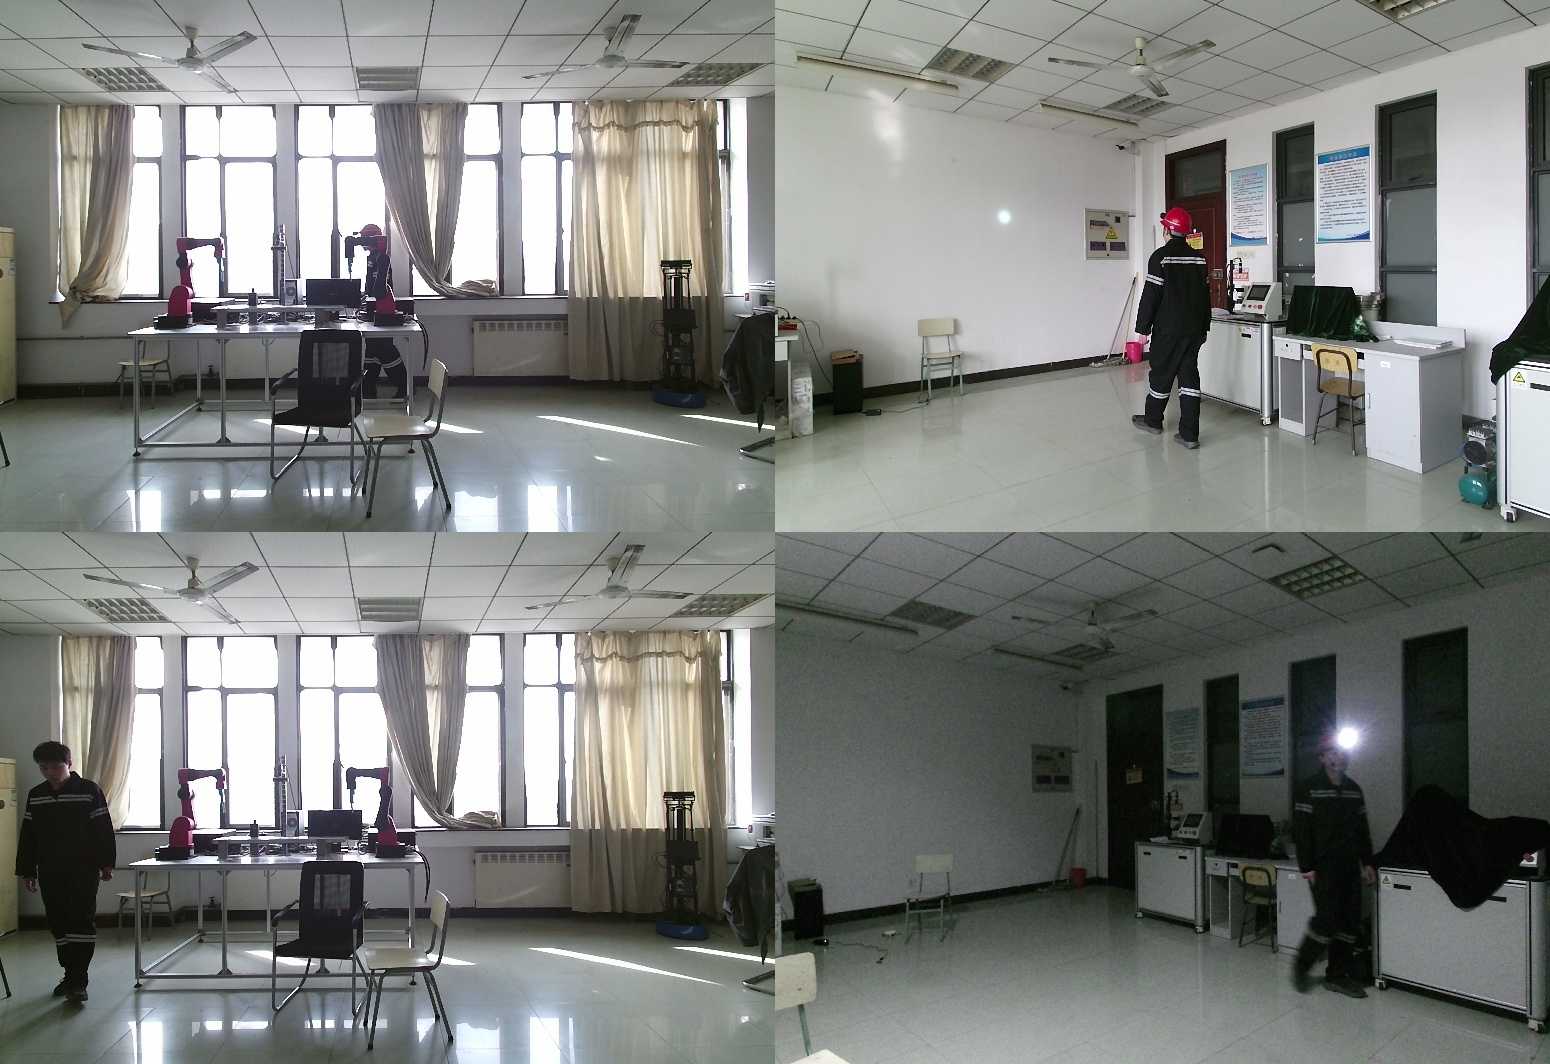person: (16, 741, 120, 997), (1280, 730, 1376, 994), (1132, 208, 1224, 445), (352, 224, 416, 403)
